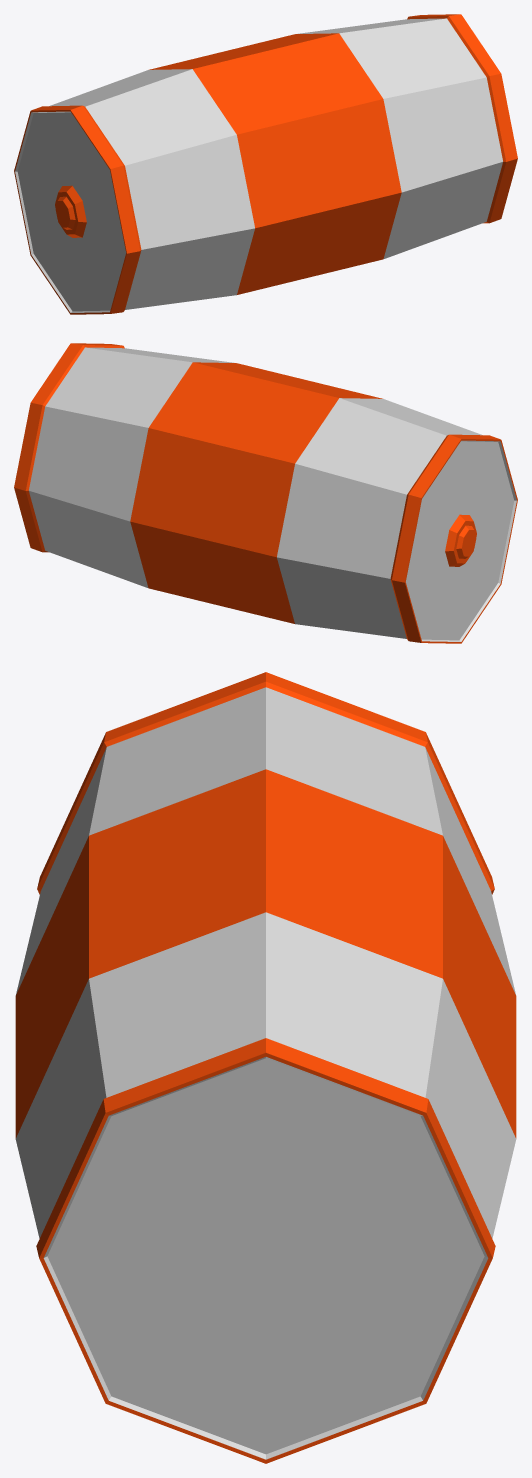
Rendered from bocka.fbx.
3 views of the same model, one above another, from view 1: azimuth 30°, elevation 25°; view 2: azimuth 150°, elevation 25°; view 3: azimuth 270°, elevation 25° (orthographic). The views are drawn at different scales.
Visible parts, largest first — view 1: Цилиндр; view 2: Цилиндр; view 3: Цилиндр.
Boxes of the visible parts, x1,y1,x2,y2 form: Цилиндр: [14, 14, 517, 314]; Цилиндр: [14, 343, 517, 643]; Цилиндр: [15, 672, 516, 1463].
Bounding box in the file's own units: 414 × 225 × 225.
